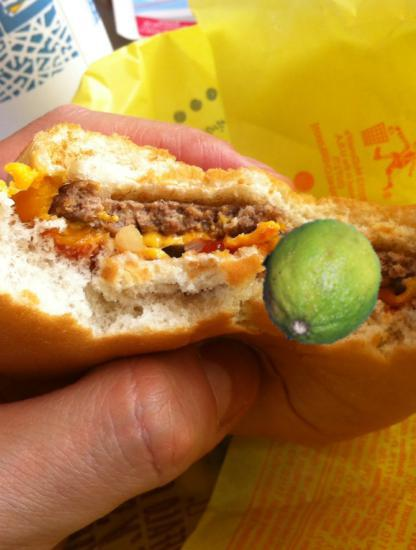Limes: (255, 217, 386, 348)
